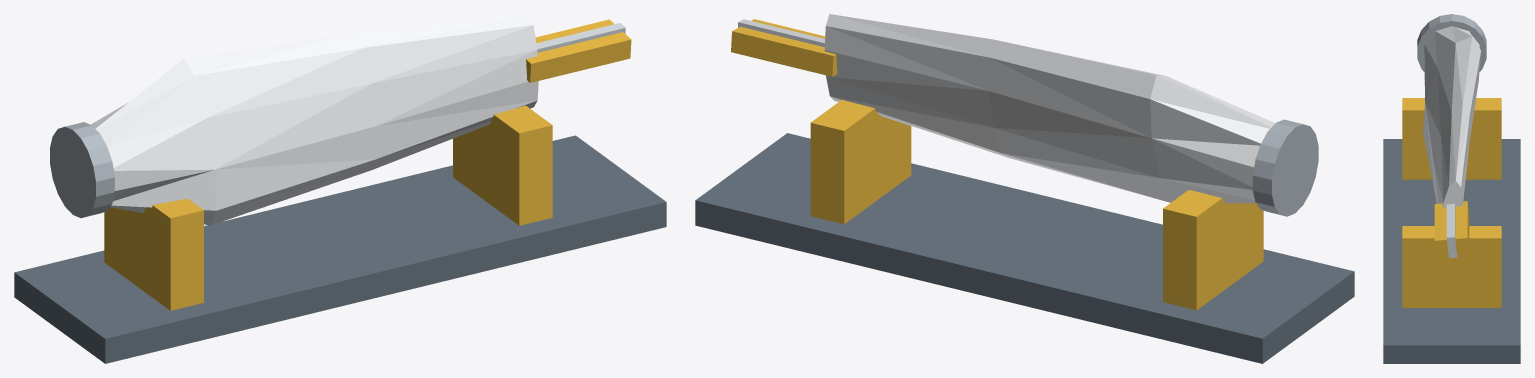
Rendered from ENERGY-019.glb.
3 renders of one model, left to right at view 1: azimuth 30°, elevation 25°; view 2: azimuth 150°, elevation 25°; view 3: azimuth 270°, elevation 25°, orthographic. The views are drawn at different scales.
Parts seen in each view (by area): view 1: ENERGY-019; view 2: ENERGY-019; view 3: ENERGY-019.
Part boxes in pixels (box(x1,y1,x2,y2)): ENERGY-019: box(14, 14, 666, 363); ENERGY-019: box(695, 14, 1354, 363); ENERGY-019: box(1383, 14, 1520, 363).
Size of the model in its own units: 2.35 by 0.9143 by 0.66.
